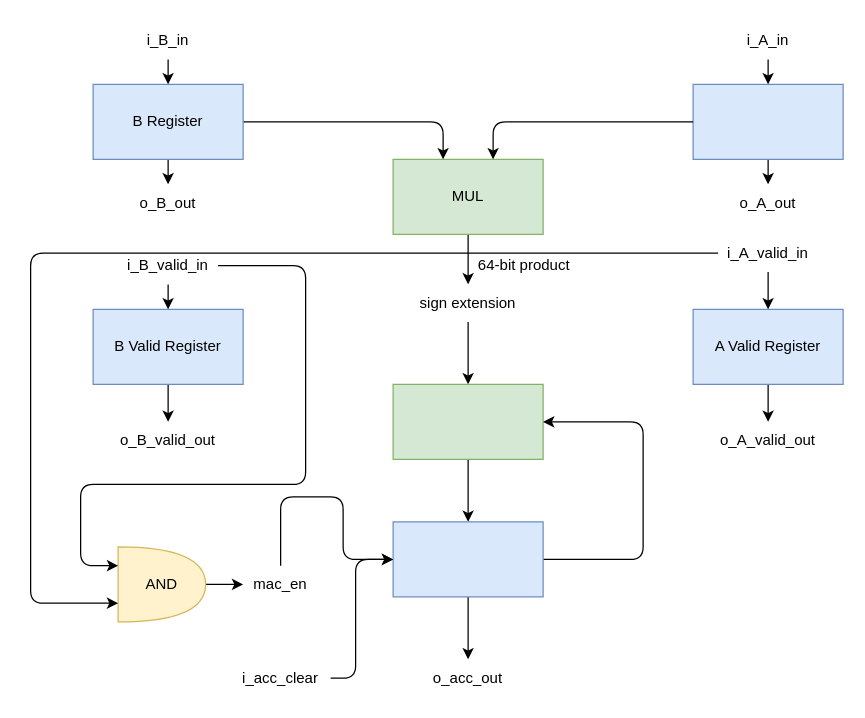
This 865x718 diagram has some shape labels left out. The shapes that lost their labels are listed below. From the top down, each one's centre as x and y in pixels, then its label:
the point at 767,121: A Register
the point at 467,421: ADDER
the point at 467,559: ACC Register
